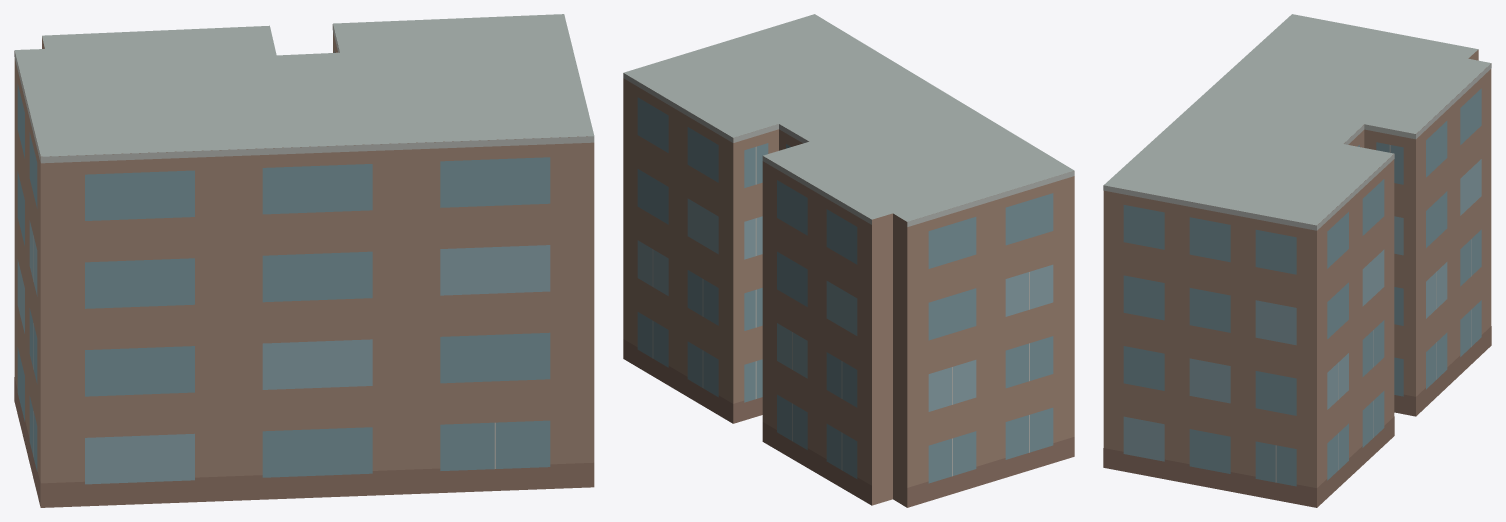
The model's file is survey-upis-32658804.glb.
The picture shows the model from 3 angles, left to right: view 1: azimuth 30°, elevation 25°; view 2: azimuth 150°, elevation 25°; view 3: azimuth 270°, elevation 25°; orthographic projection. The views are drawn at different scales.
Parts seen in each view (by area): view 1: survey-upis-32658804.tmp; view 2: survey-upis-32658804.tmp; view 3: survey-upis-32658804.tmp.
Boxes of the visible parts, left/top/right/bottom form: survey-upis-32658804.tmp: left=14, top=14, right=594, bottom=507; survey-upis-32658804.tmp: left=623, top=14, right=1074, bottom=507; survey-upis-32658804.tmp: left=1103, top=14, right=1491, bottom=507.
Size of the model in its own units: 21.05 by 13.1 by 16.32.
